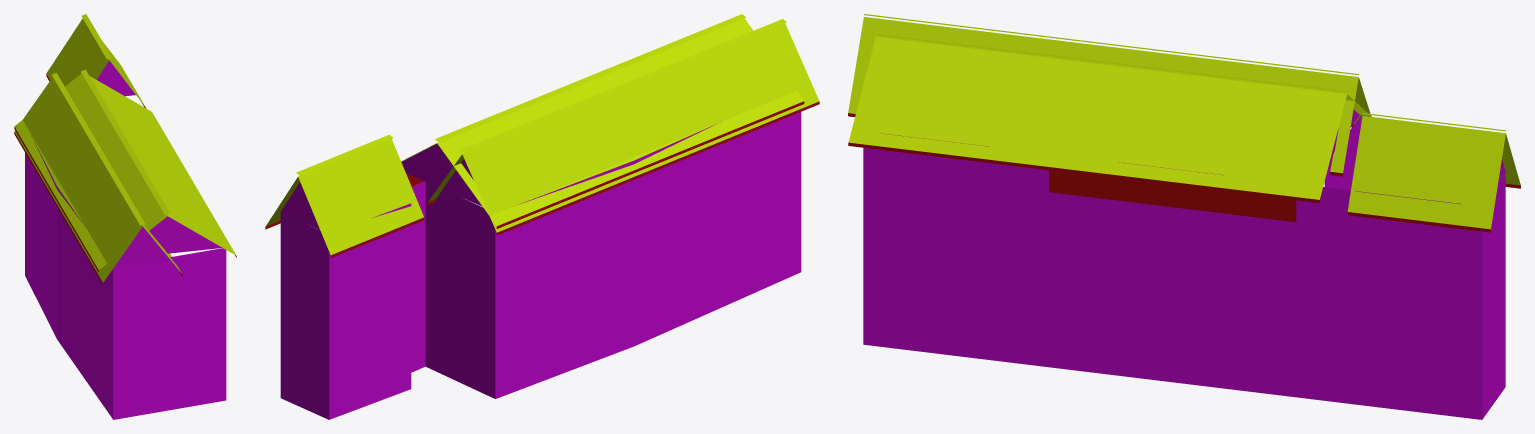
Rendered from bgj_336.glb.
3 views of the same model, side by side, from view 1: azimuth 30°, elevation 25°; view 2: azimuth 150°, elevation 25°; view 3: azimuth 270°, elevation 25° (orthographic). The views are drawn at different scales.
Visible parts, largest first — view 1: bgj_336; view 2: bgj_336; view 3: bgj_336.
Part boxes in pixels (x1,y1,x2,y2): bgj_336: [14, 14, 236, 419]; bgj_336: [265, 14, 819, 419]; bgj_336: [848, 14, 1520, 419].
Bounding box in the file's own units: 12.64 × 10.01 × 22.24.
